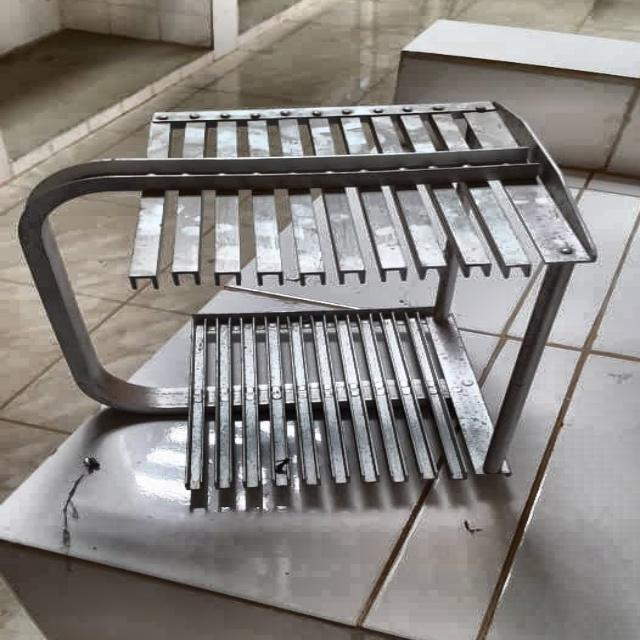Plate Rack: (16, 92, 608, 506)
